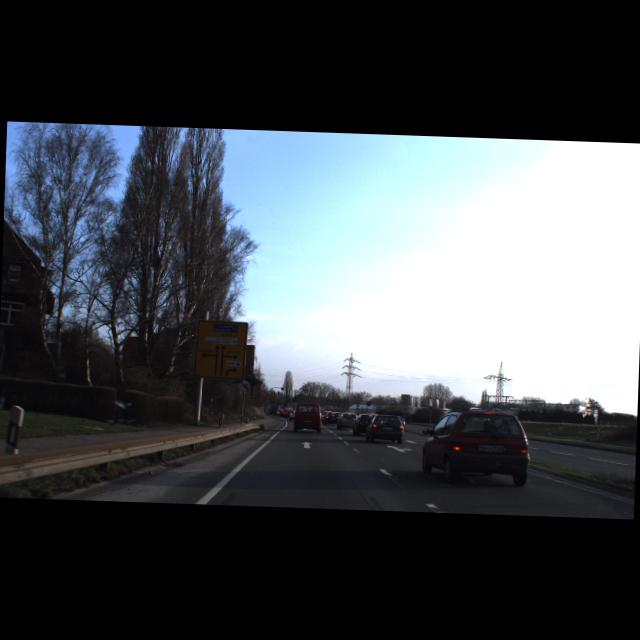other: (238, 380, 249, 391)
